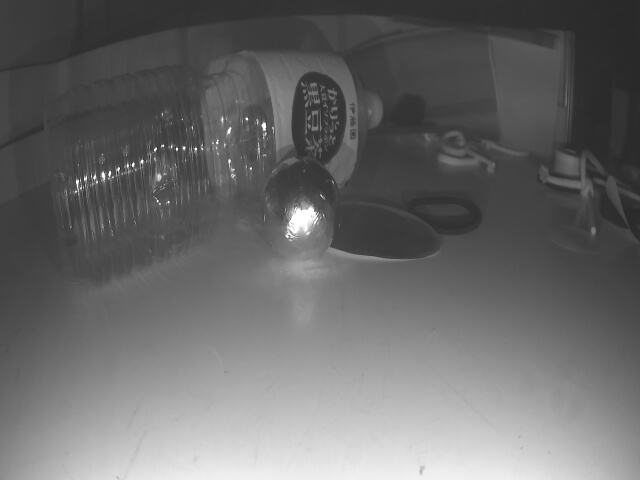Live: (261, 158, 338, 265)
Point: (0, 111, 50, 206)
